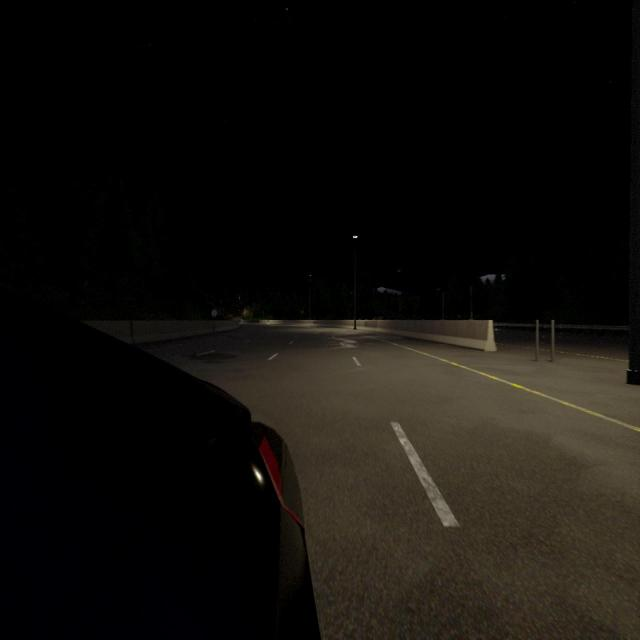Traffic_Signs: (211, 309, 218, 317)
Vehicle: (0, 288, 319, 640)
